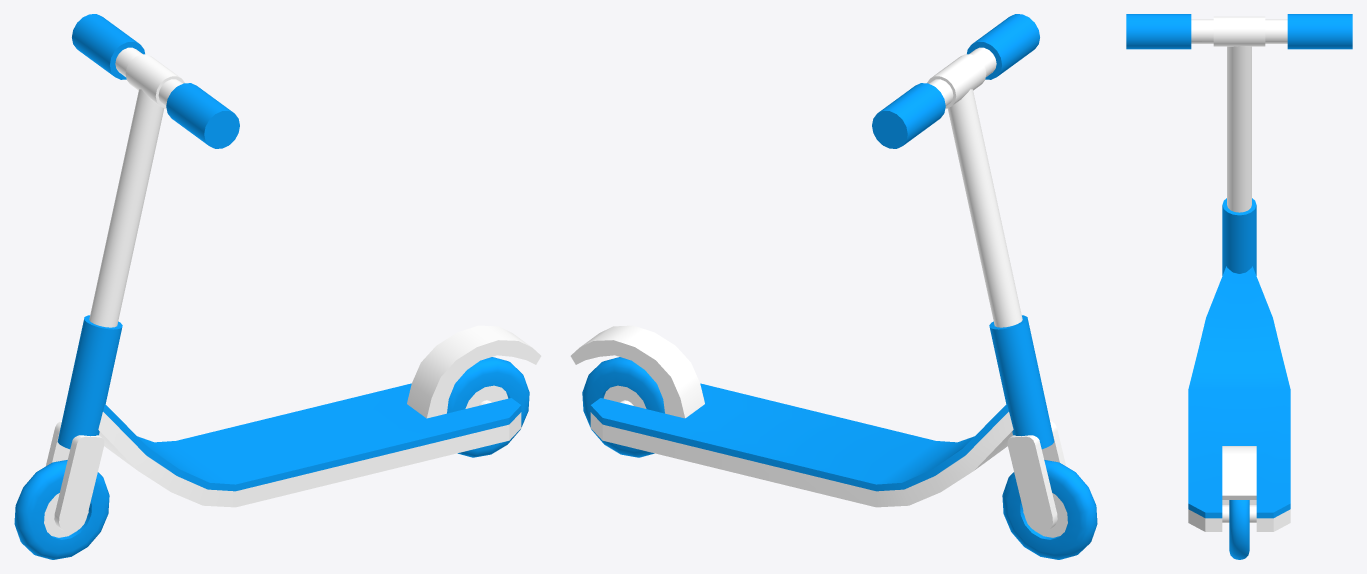
File: kick_scooter.glb
The picture shows the model from 3 angles, left to right: view 1: azimuth 30°, elevation 25°; view 2: azimuth 150°, elevation 25°; view 3: azimuth 270°, elevation 25°; orthographic projection. The views are drawn at different scales.
Visible parts, largest first — view 1: Cube.741; view 2: Cube.741; view 3: Cube.741.
Boxes of the visible parts, left/top/right/bottom form: Cube.741: left=14, top=14, right=541, bottom=559; Cube.741: left=570, top=14, right=1097, bottom=559; Cube.741: left=1126, top=14, right=1352, bottom=559.
Bounding box in the file's own units: 2.4 × 2.1 × 1.07.
Materials: 1 (1 with a texture image).
